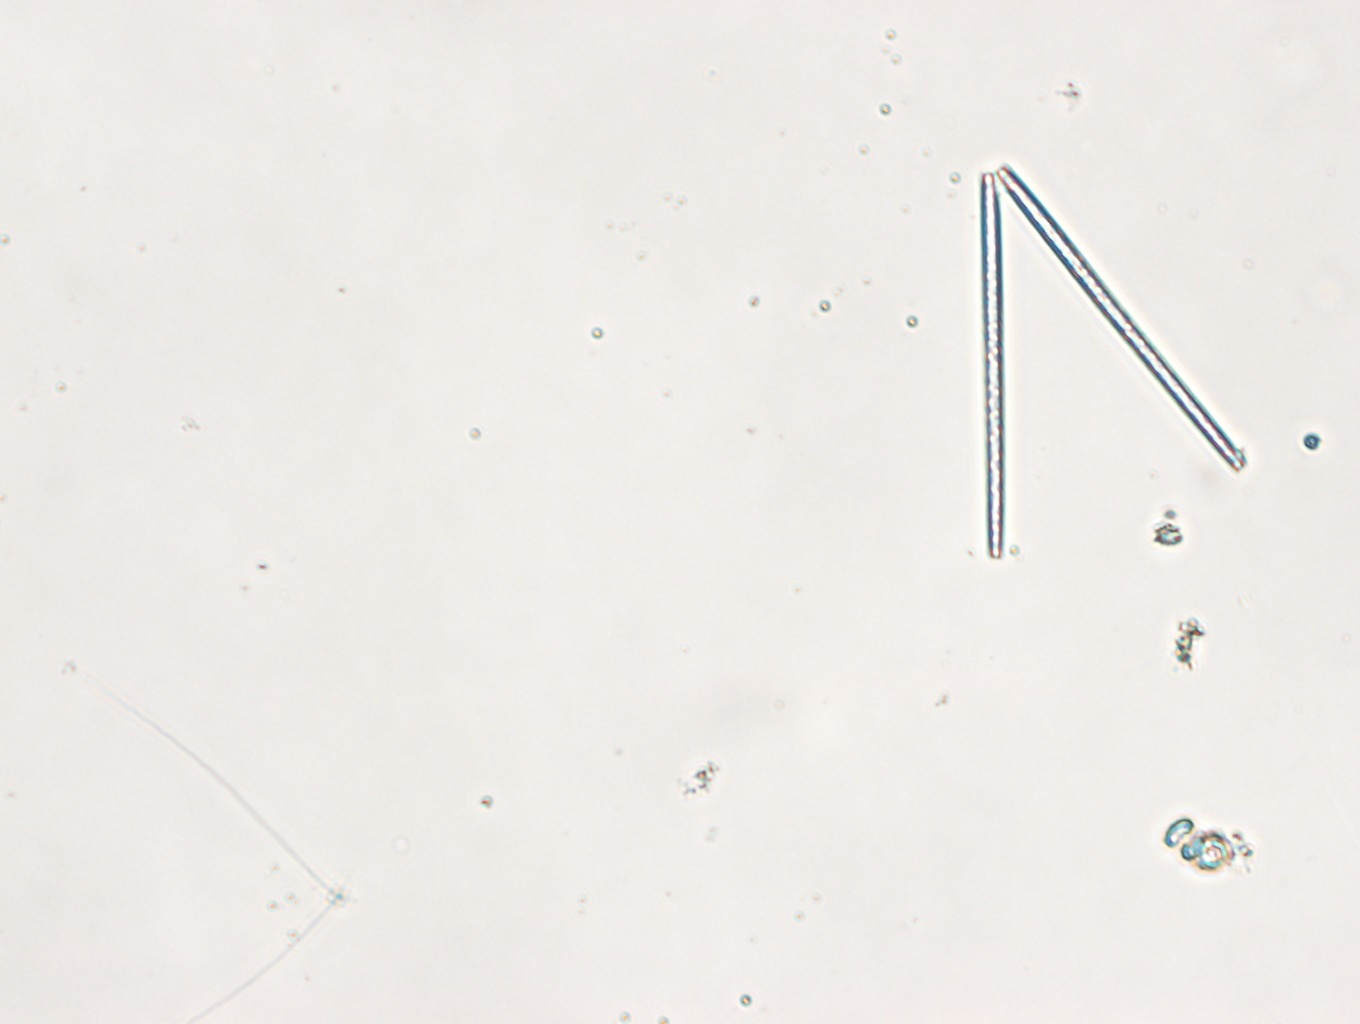thalassionema frauenfeldii: (980, 161, 1246, 564)
